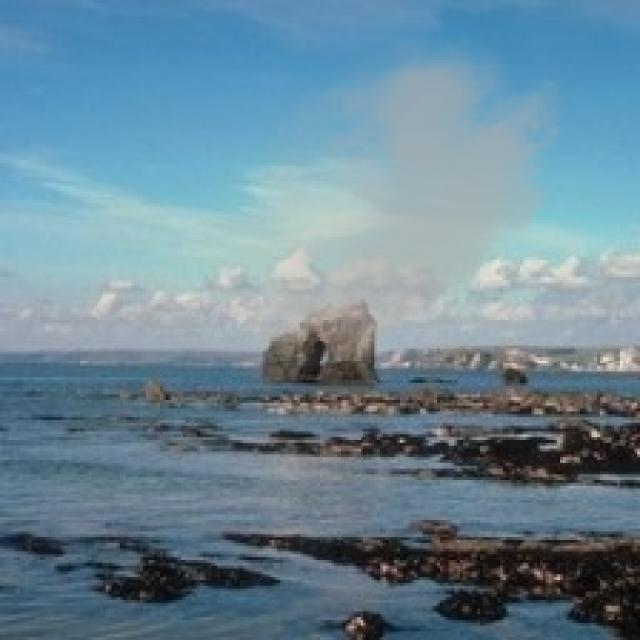Smoke: (157, 19, 577, 394)
